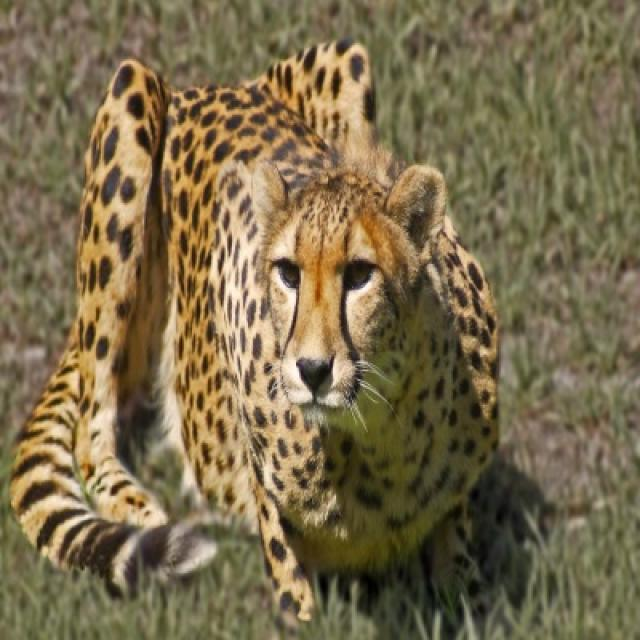Cheetah: (15, 50, 504, 626)
